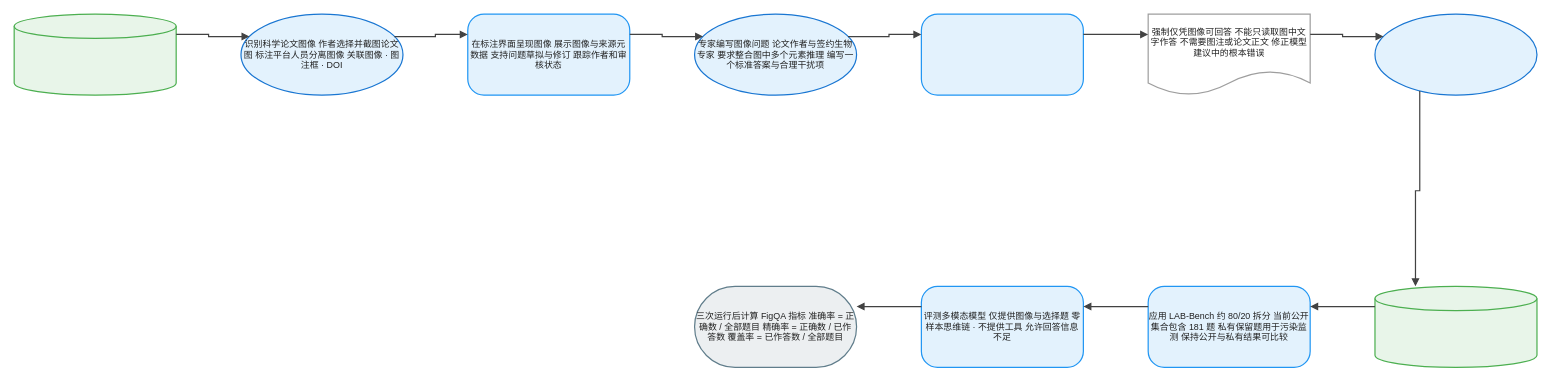
Image size: 1552x382. Some labels were removed from this diagram. Here are the shapes that lost their labels. From the top down, the box of each, then its label:
(13, 13, 176, 95): 汇集生物学论文来源 作者按研究兴趣选择论文 为外部专家构建更大论文池 保留来源 DOI 元数据
(920, 13, 1084, 95): 可选请求 GPT-4 Turbo 提供灵感 仅把建议作为头脑风暴种子 发现难以理解的图像区域 不直接接受未审核模型草稿
(1374, 13, 1537, 95): 复核并修订专家草稿 用最初 5–10 题校准新出题者 合并语料前持续由作者审核 修订 · 接收 · 拒绝
(1374, 285, 1537, 368): 汇总 FigQA · 226 题 图像 · 选择题 · 标准答案 · 干扰项 来源与子任务元数据 多模态科学图像推理任务
